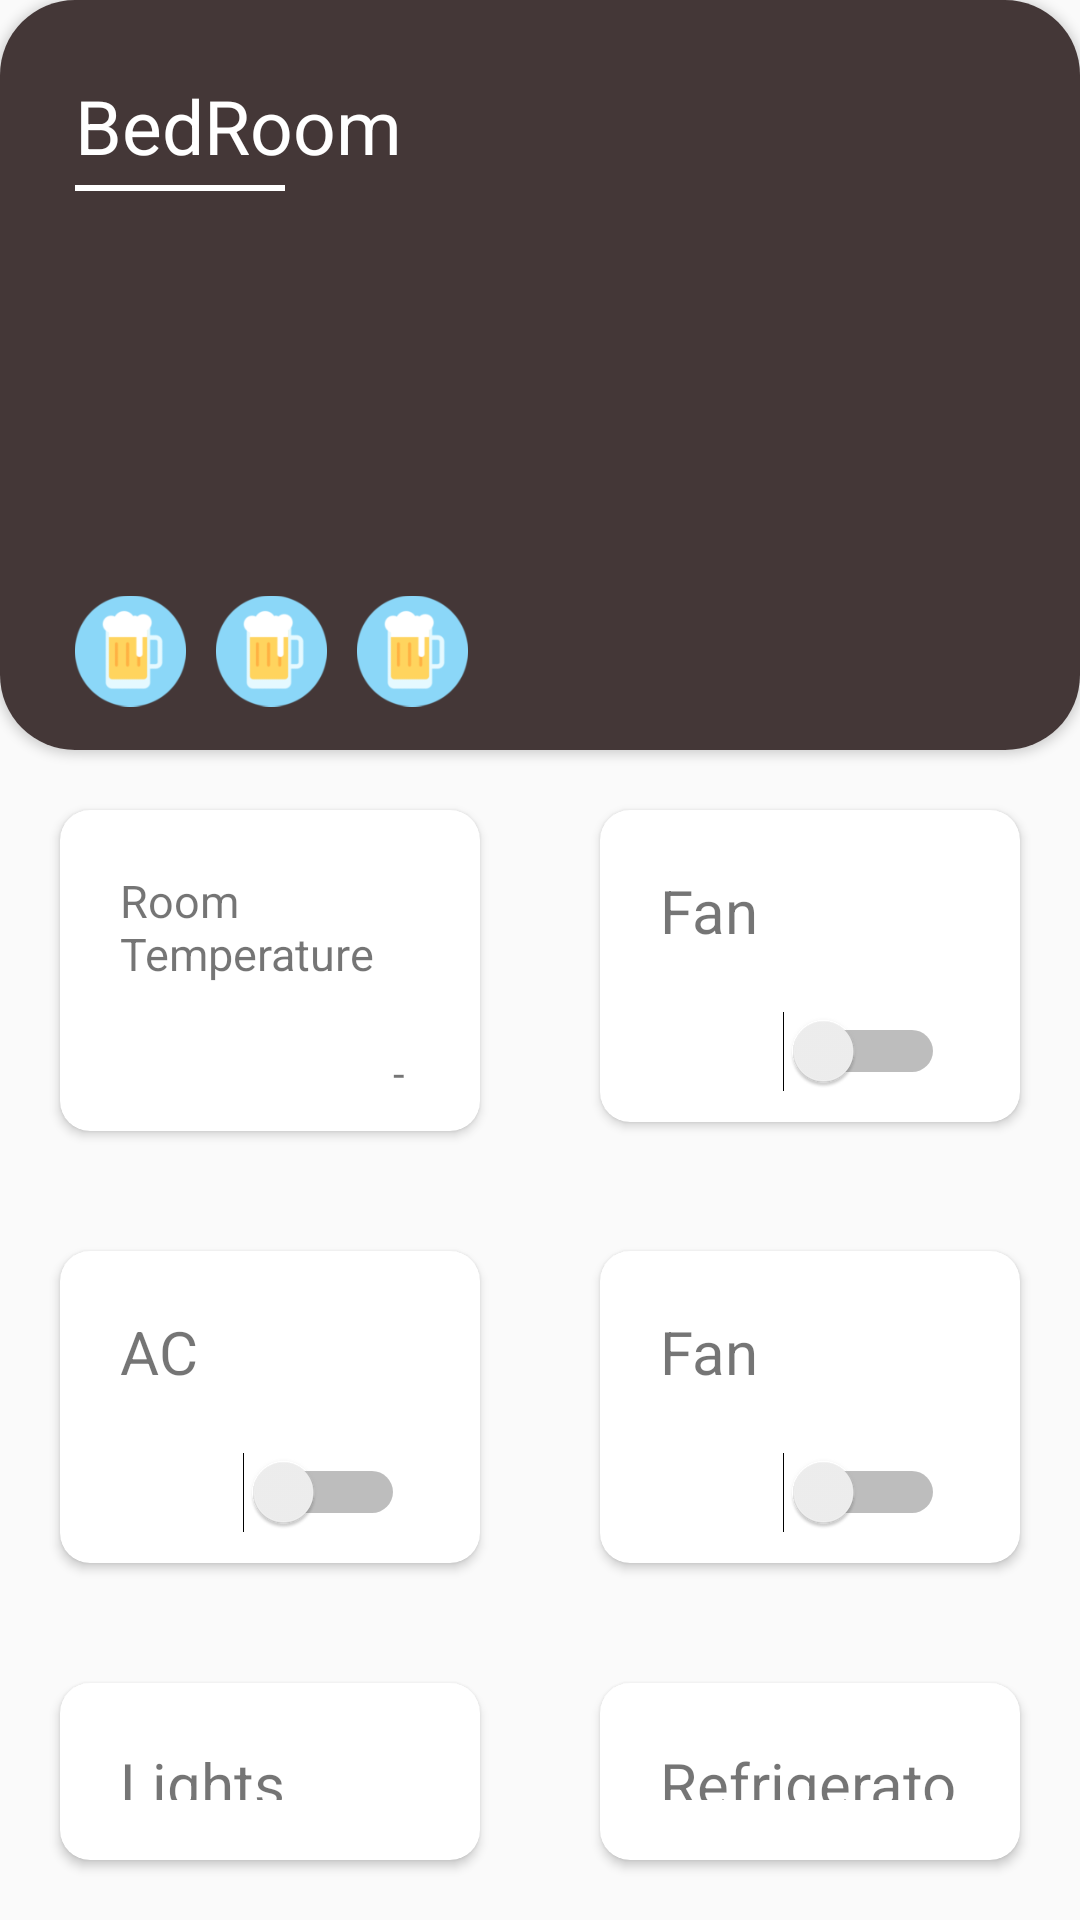

Where icons sit on this 1080 x 1920 app screen, as (x1, y1, x2, y2):
beeer: (75, 596, 186, 707), (216, 596, 327, 707), (357, 596, 468, 707)
